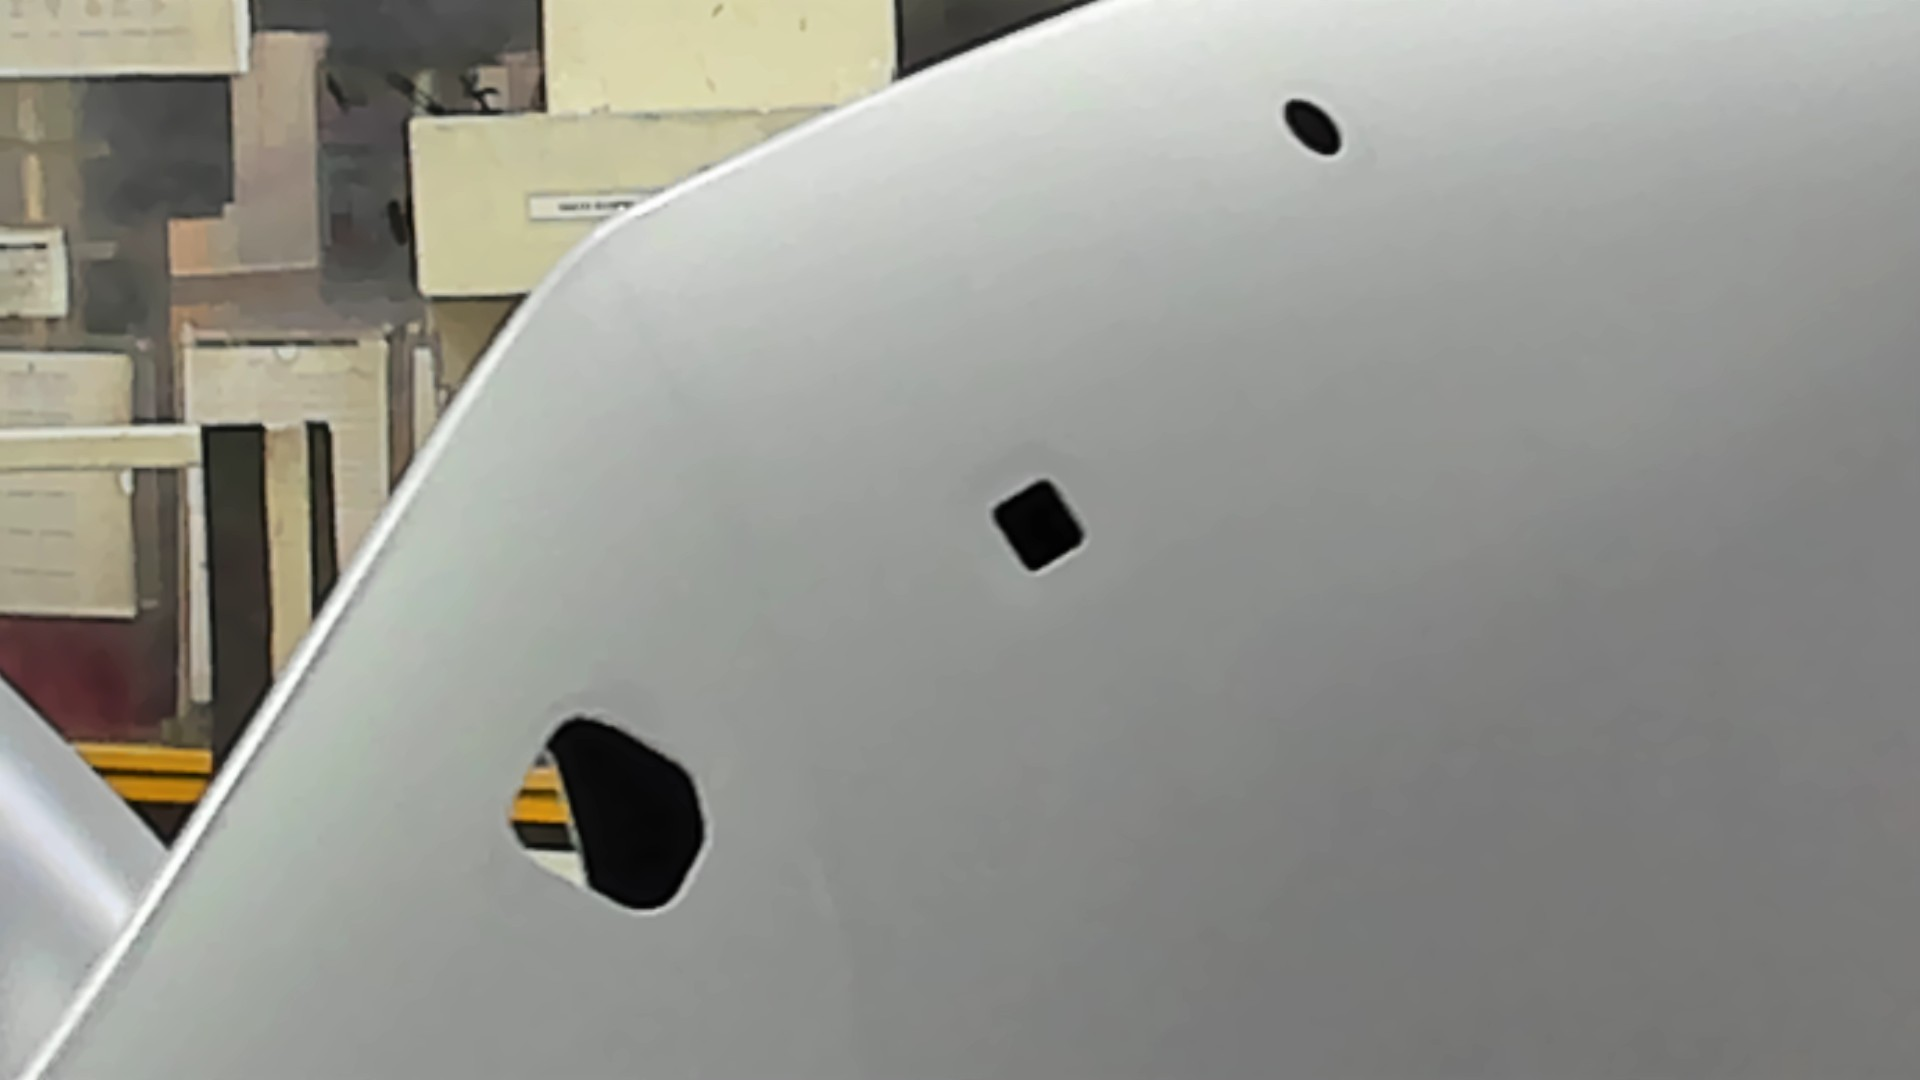capo: (1098, 173, 1920, 1080)
chico: (1276, 92, 1349, 162)
grande: (501, 708, 716, 927)
mediano: (982, 467, 1096, 582)
